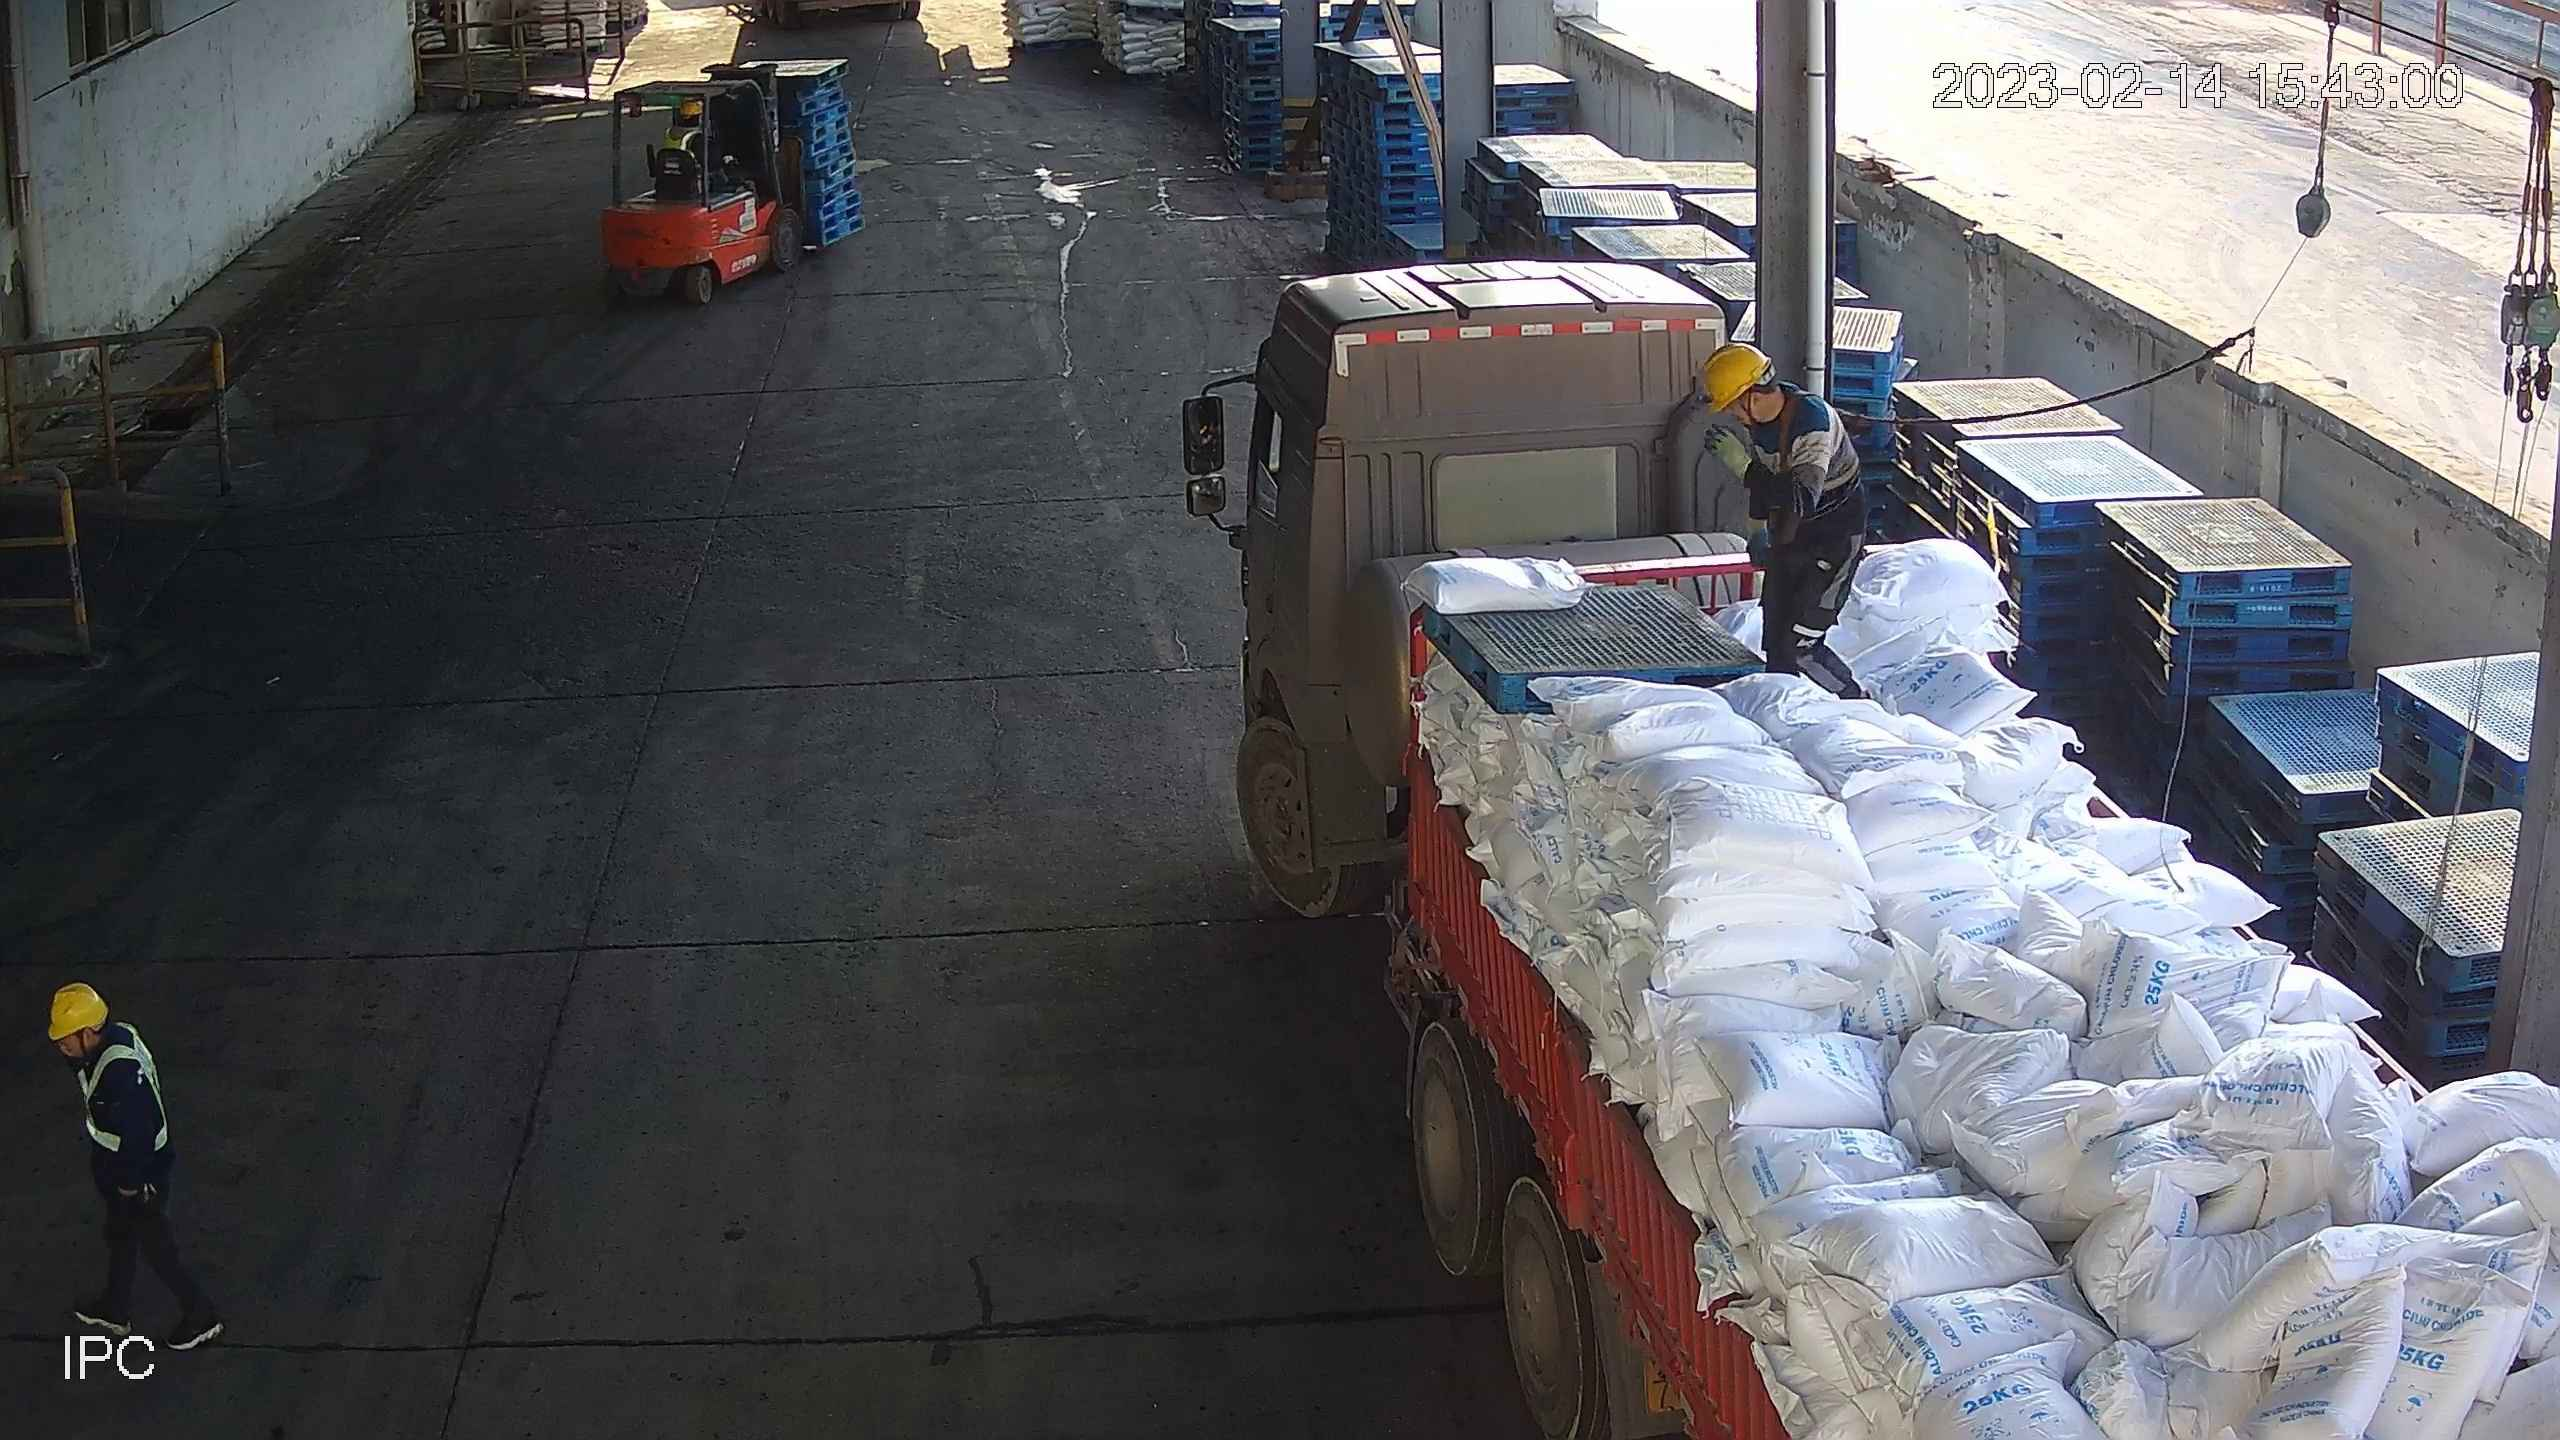belt: (1777, 389, 1861, 467)
head: (1697, 348, 1842, 462), (48, 985, 153, 1102), (665, 99, 711, 143)
helmet: (1699, 343, 1772, 409), (41, 978, 109, 1037), (679, 101, 706, 122)
people: (25, 971, 232, 1357), (1697, 341, 1881, 711)
truck: (1179, 260, 2560, 1440)
